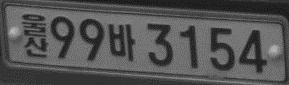1: (179, 25, 203, 68)
3: (146, 22, 173, 66)
4: (238, 29, 267, 73)
5: (210, 27, 235, 71)
9: (50, 15, 75, 58), (79, 18, 104, 60)
바: (108, 22, 136, 61)
울산_V: (21, 13, 49, 57)
